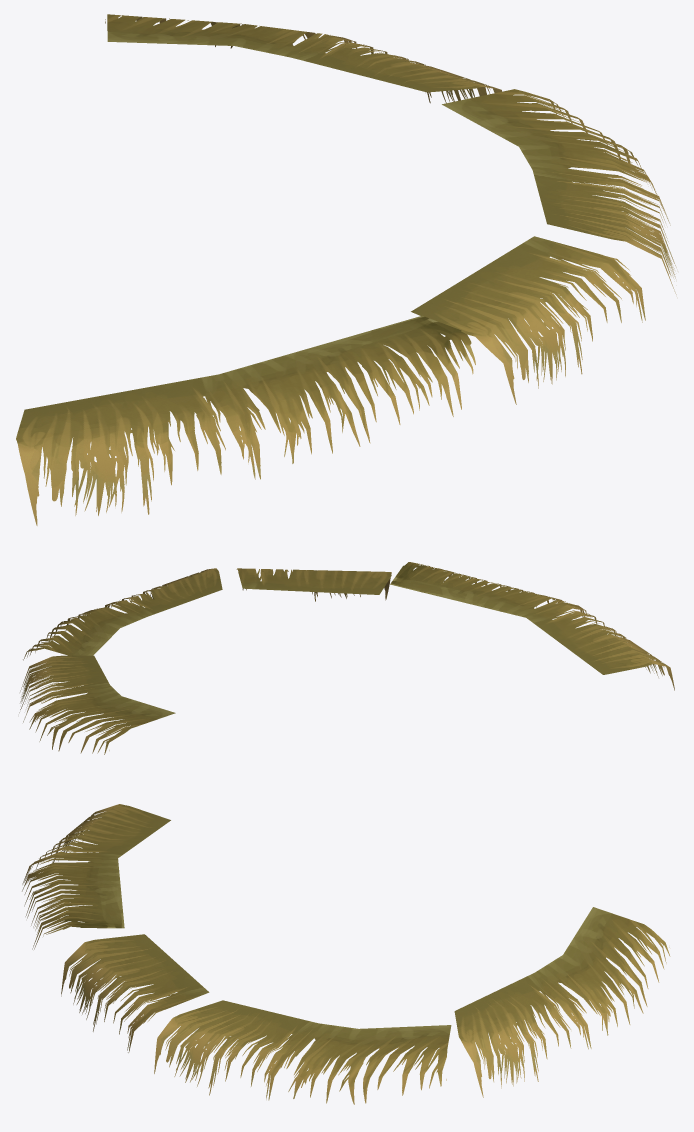
File: CornerGrass.FBX
3 renders of one model, top to bottom at view 1: azimuth 30°, elevation 25°; view 2: azimuth 150°, elevation 25°; view 3: azimuth 270°, elevation 25°, orthographic. The views are drawn at different scales.
Parts seen in each view (by area): view 1: CornerGrass001, CornerGrass003, CornerGrass002, CornerGrass004; view 2: CornerGrass001, CornerGrass004, CornerGrass003, CornerGrass002; view 3: CornerGrass004, CornerGrass003, CornerGrass001, CornerGrass002.
Boxes of the visible parts, x1,y1,x2,y2 form: CornerGrass001: [16, 315, 475, 525]; CornerGrass003: [442, 89, 676, 294]; CornerGrass002: [411, 236, 645, 404]; CornerGrass004: [105, 14, 501, 103]; CornerGrass001: [390, 562, 674, 690]; CornerGrass004: [19, 655, 175, 754]; CornerGrass003: [23, 568, 222, 660]; CornerGrass002: [236, 568, 391, 601]; CornerGrass004: [454, 907, 670, 1097]; CornerGrass003: [154, 1000, 451, 1104]; CornerGrass001: [22, 804, 170, 949]; CornerGrass002: [61, 934, 209, 1052].
Size of the model in its own units: 497 by 75.67 by 497.
